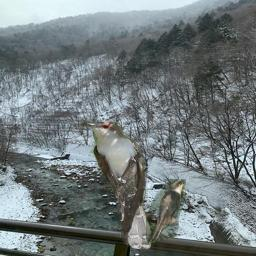Cuckoo: (81, 119, 154, 249), (146, 179, 186, 245)
